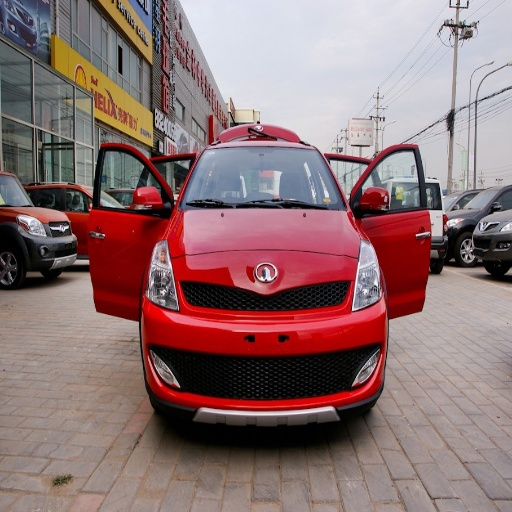front_bumper: (145, 256, 384, 423)
front_left_light: (351, 248, 385, 310)
front_right_door: (97, 145, 168, 243)
front_right_light: (145, 244, 179, 311)
hood: (172, 208, 361, 257)
